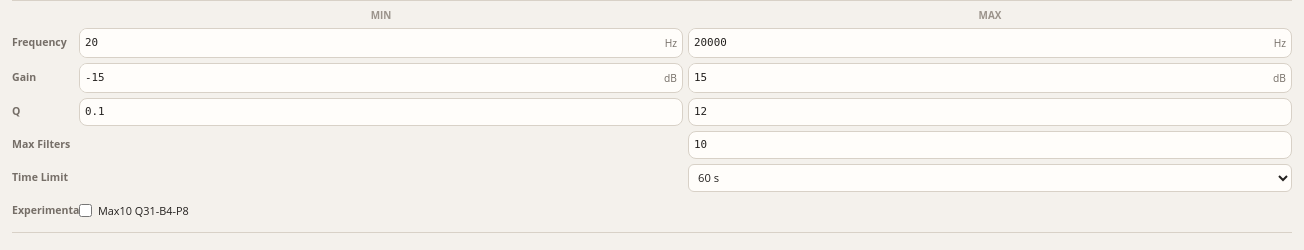
AutoEqSettings › exposes validated Experimental Max10 as opt-in and disables it outside Max10 bounds
The width and height of the screenshot is (1304, 250).
Click the switch named "Use experimental Max10 Q31-B4-P8" at {"x": 86, "y": 211}, box [79,204,92,217]
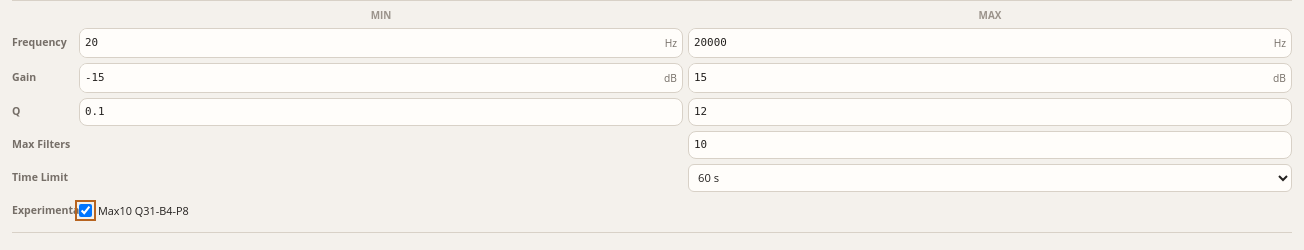
Now the switch named "Use experimental Max10 Q31-B4-P8" is checked, box [79,204,92,217]
Replace the text in the number field named "AutoEQ max filters" with "12" at {"x": 990, "y": 145}, box [688,131,1292,159]
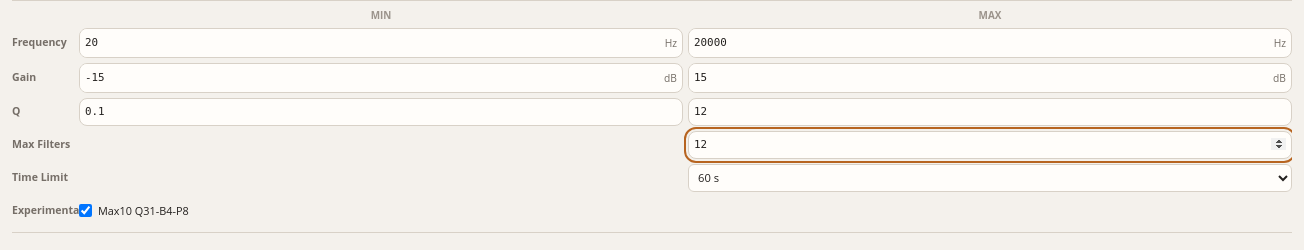
Leave the number field named "AutoEQ max filters", box [688,131,1292,159]
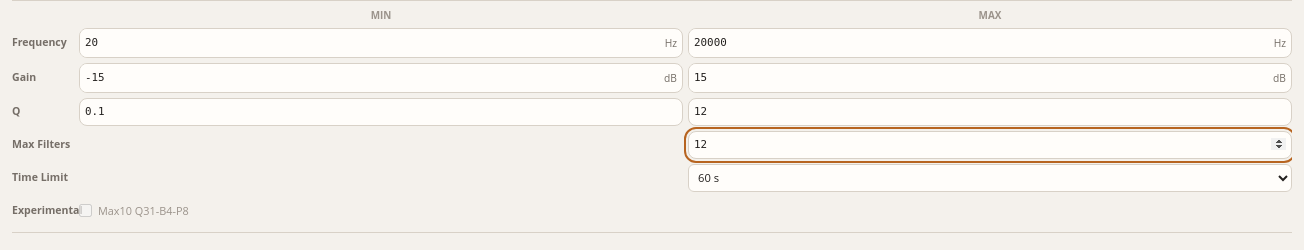
Now the switch named "Use experimental Max10 Q31-B4-P8" is not checked, box [79,204,92,217]
Now the switch named "Use experimental Max10 Q31-B4-P8" is disabled, box [79,204,92,217]
